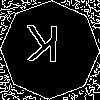K: (25, 25, 60, 72)
